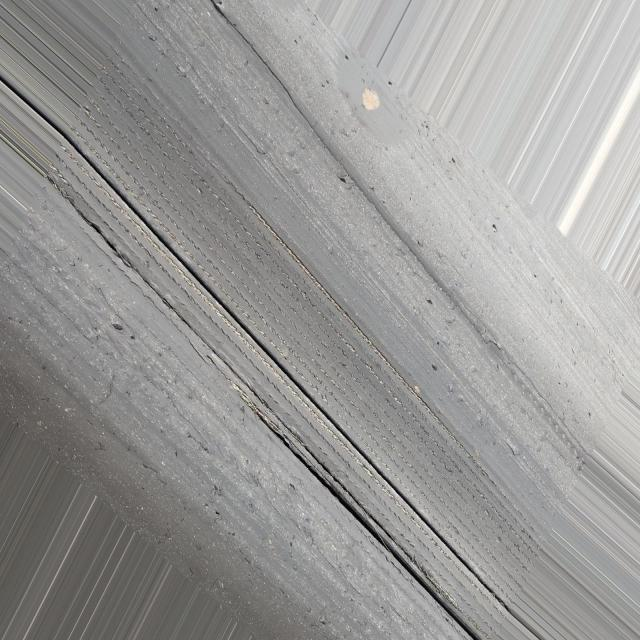Tear: (66, 127, 541, 640), (199, 0, 585, 462), (238, 402, 491, 640)
